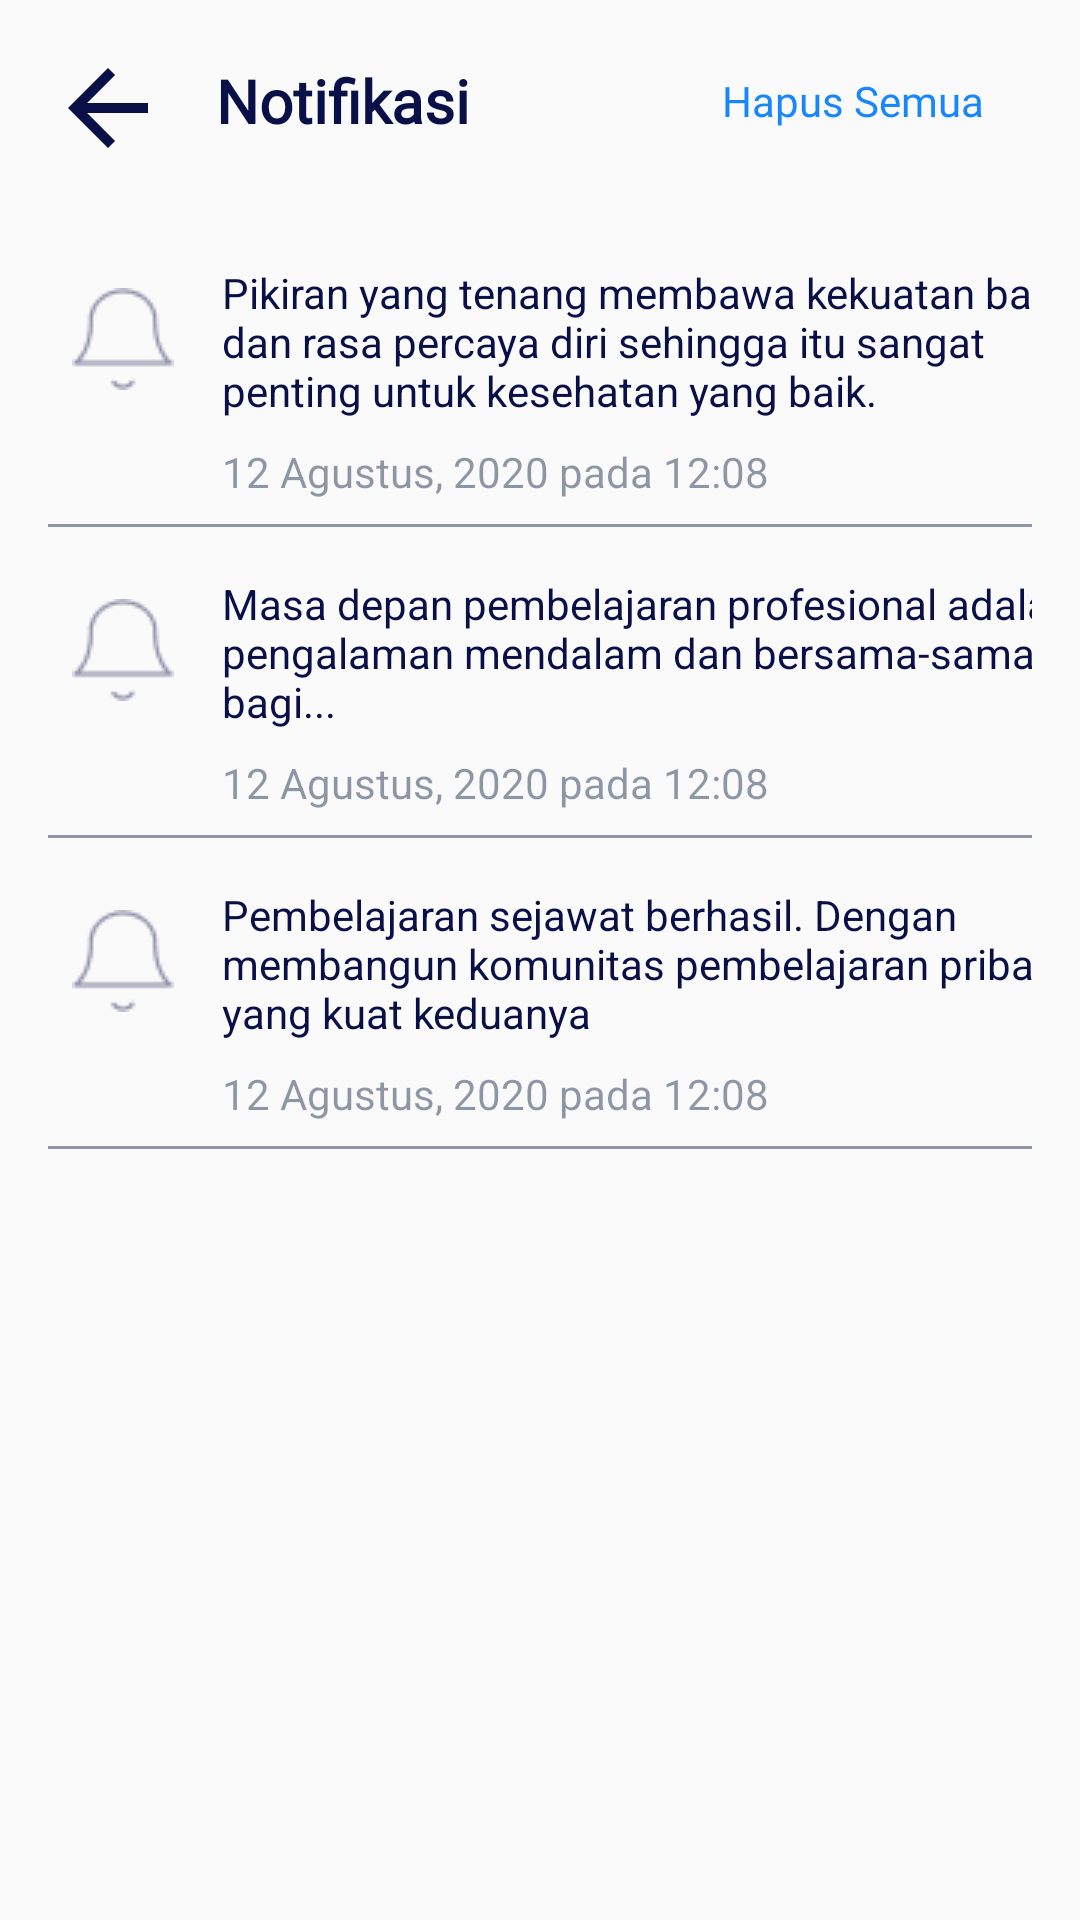

Where to tap for icons on this 1080px x 1920px app screen, as [x,y]:
arrow back: [108,108]
